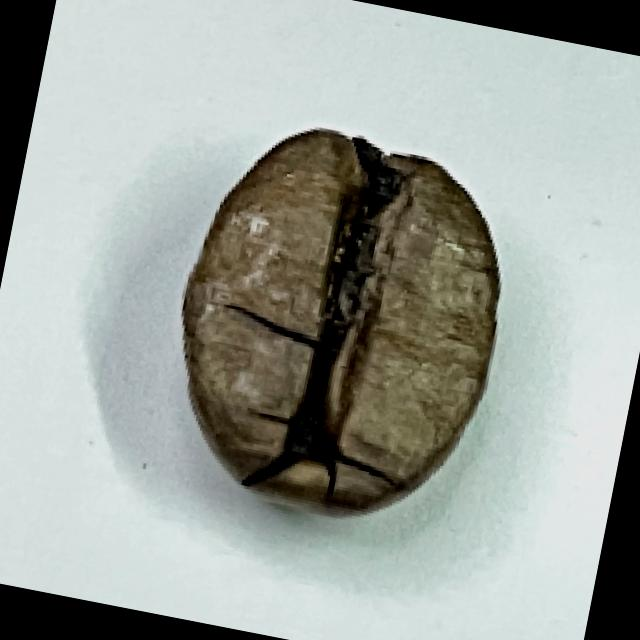bean: (143, 105, 536, 543)
